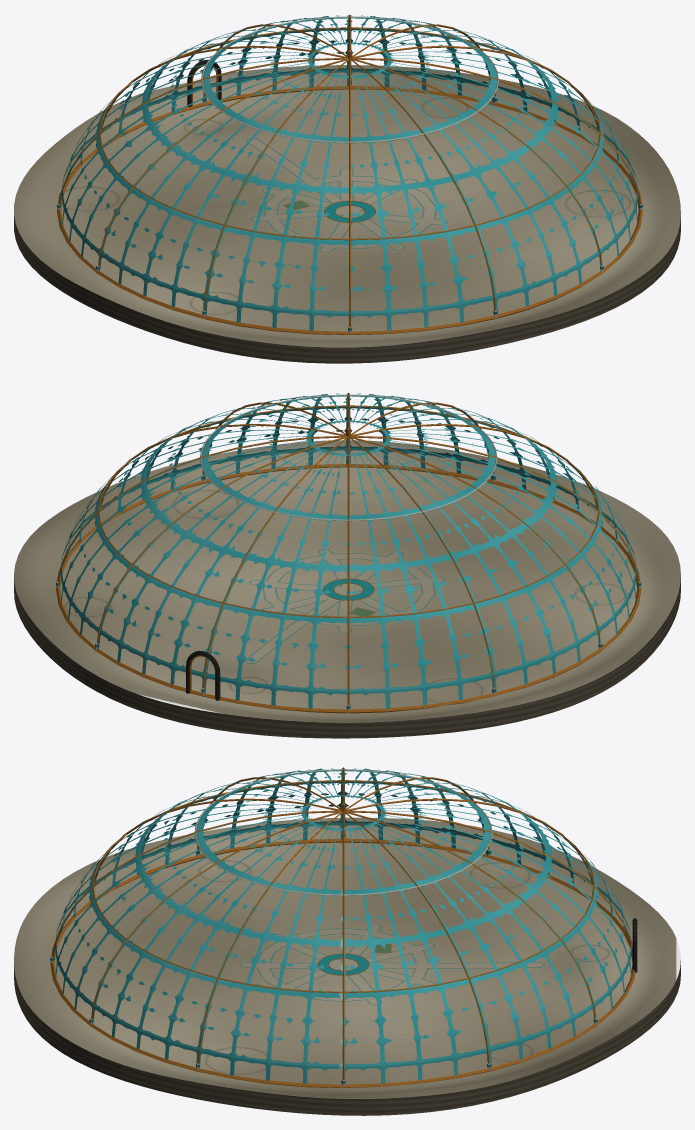
Rendered from dome-commons-plate.glb.
3 views of the same model, one above another, from view 1: azimuth 30°, elevation 25°; view 2: azimuth 150°, elevation 25°; view 3: azimuth 270°, elevation 25° (orthographic).
Visible parts, largest first — view 1: DomeCommonsPlate; view 2: DomeCommonsPlate; view 3: DomeCommonsPlate.
Boxes of the visible parts, box(x1,y1,x2,y2) form: DomeCommonsPlate: box(14, 15, 680, 363); DomeCommonsPlate: box(14, 392, 680, 738); DomeCommonsPlate: box(14, 767, 680, 1115).
Size of the model in its own units: 49.68 by 14 by 49.6.
Materials: 1 (1 with a texture image).
